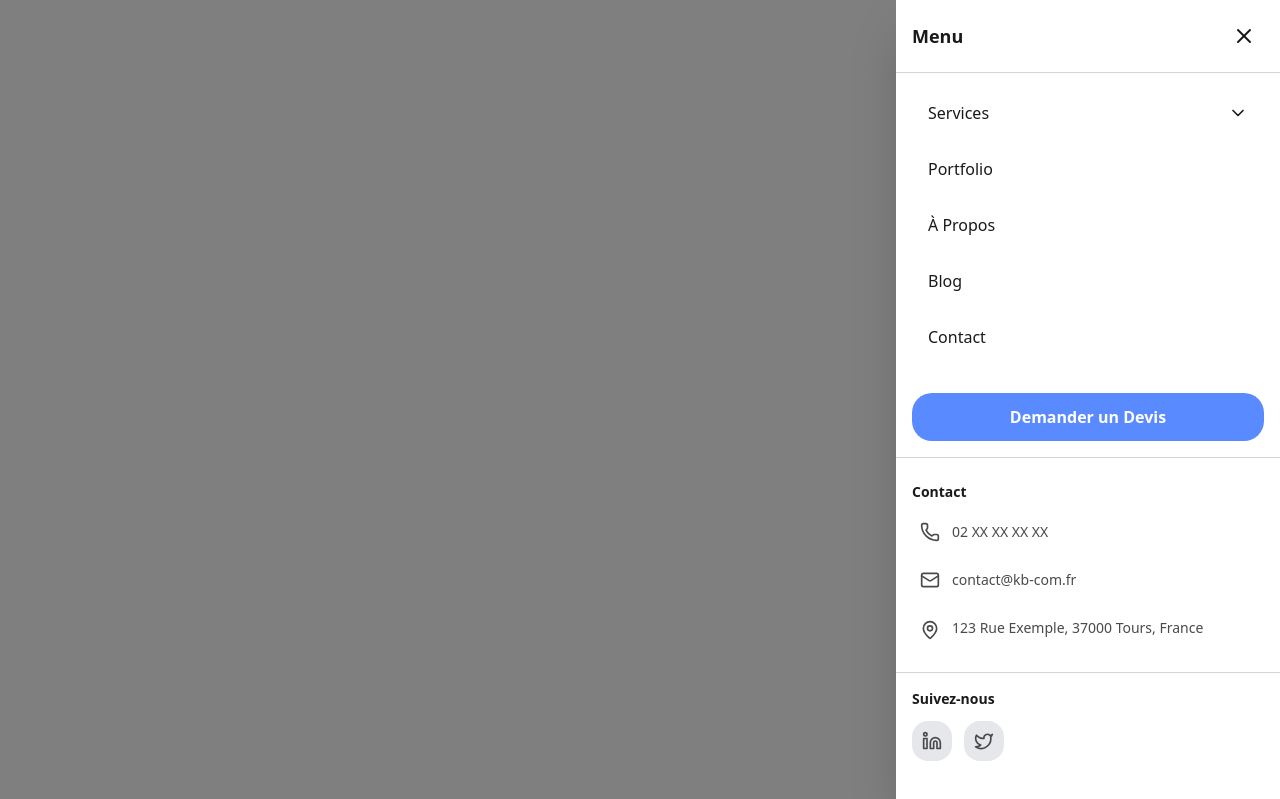
Test: MobileMenu › expands Services accordion when clicked
Expected: the text "Création de Sites Web" is not shown
What coordinates should you click on to do the following:
click the button "Services"
I would click on:
 (959, 113)
Its box is [912,89,1264,137].
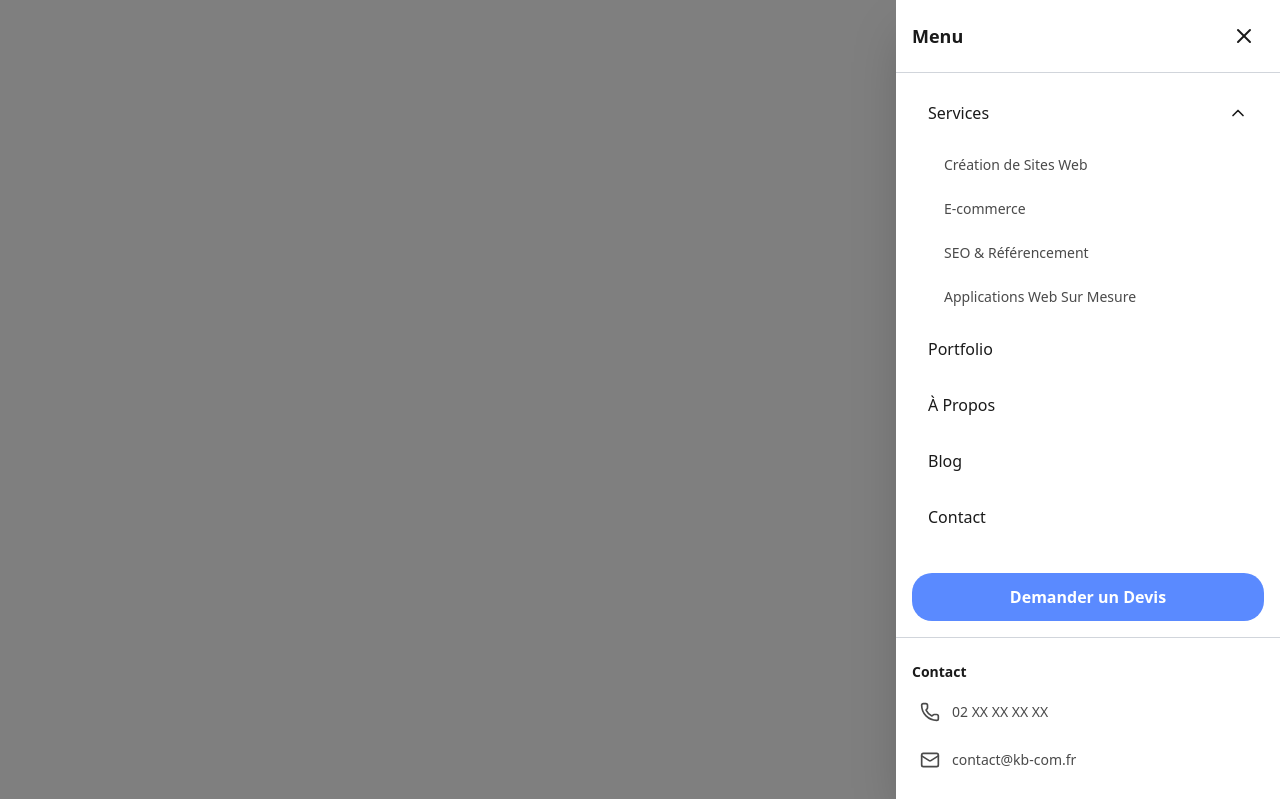
Now the link "Création de Sites Web" is shown, box [944,155,1088,174]
Now the link "E-commerce" is shown, box [944,199,1026,218]
Now the link "SEO & Référencement" is shown, box [944,243,1089,262]
